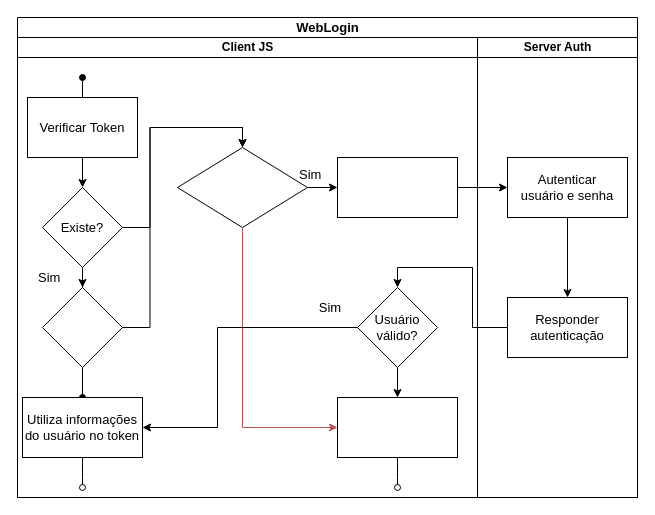
This 655x515 diagram has some shape labels left out. Here are the shapes that lost their labels. From the top down, the centre of each, then its label:
At (242,187): "Há usuário e senha?".
At (397,187): "Solicitar token".
At (82,327): "Ainda é válido?".
At (397,427): "Processa resposta negativa (mensagem?)".
